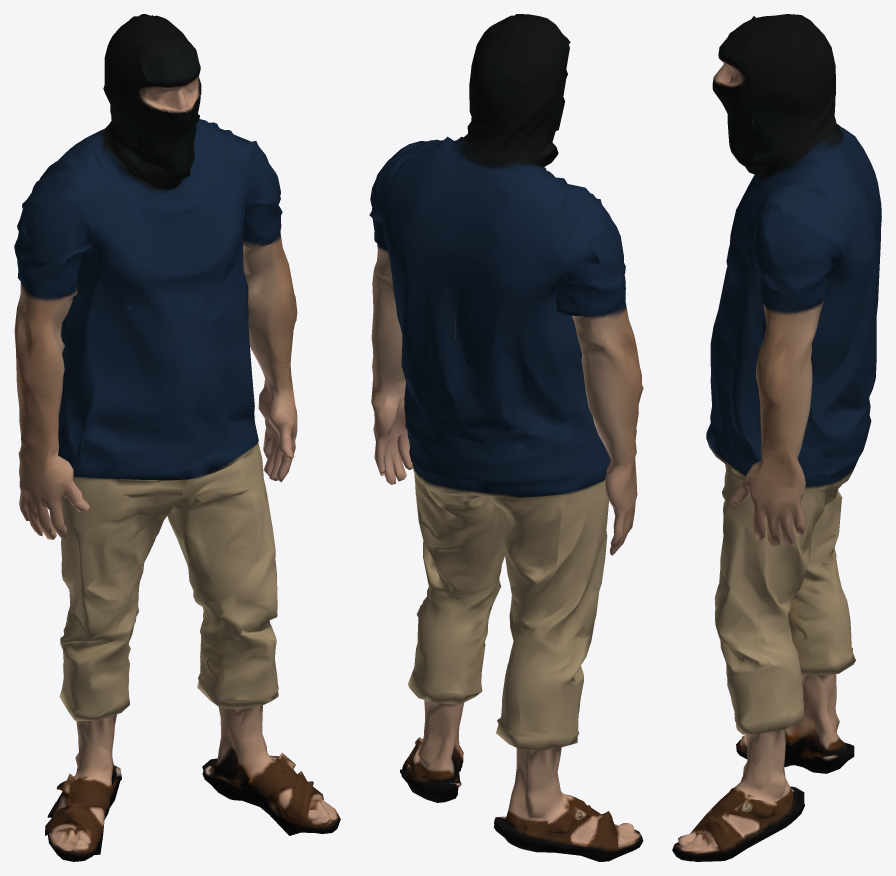
File: teroris_tanpa_tas_idle.glb
3 views of the same model, side by side, from view 1: azimuth 30°, elevation 25°; view 2: azimuth 150°, elevation 25°; view 3: azimuth 270°, elevation 25° (orthographic). The views are drawn at different scales.
Visible parts, largest first — view 1: tripo_node_23cfead8; view 2: tripo_node_23cfead8; view 3: tripo_node_23cfead8.
Boxes of the visible parts, <box> form: tripo_node_23cfead8: <box>14,14,340,861</box>; tripo_node_23cfead8: <box>369,14,643,861</box>; tripo_node_23cfead8: <box>672,14,881,861</box>.
Size of the model in its own units: 34.08 by 98.81 by 23.83.
Materials: 1 (1 with a texture image).
